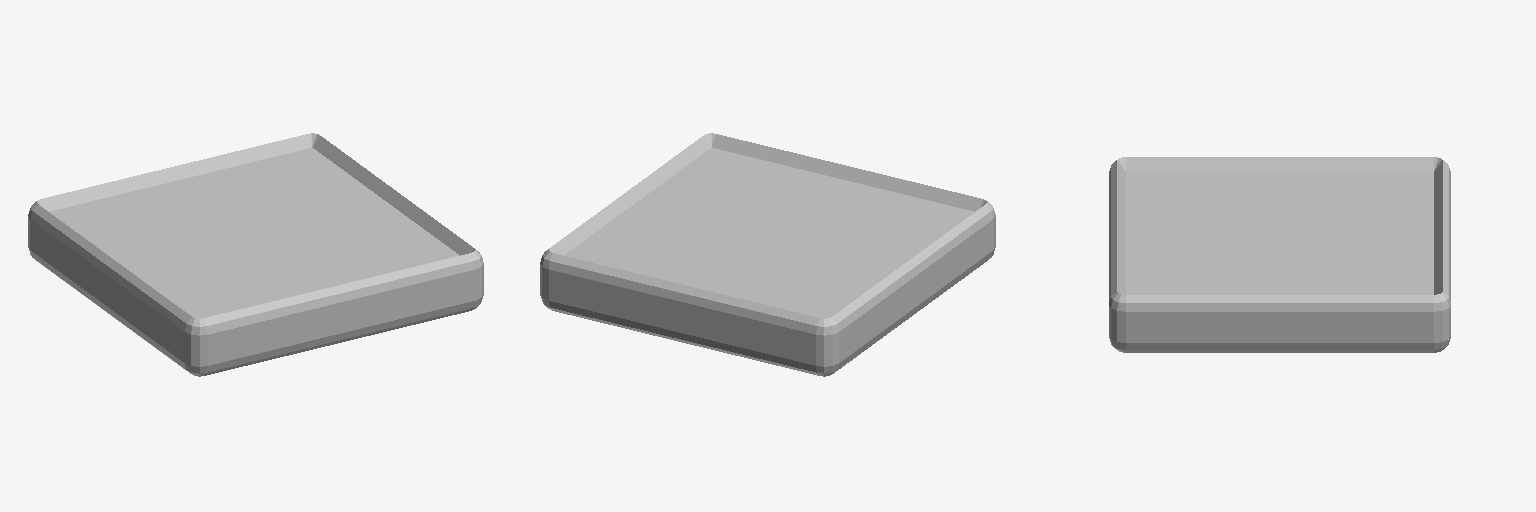
File: displayBox.obj
The picture shows the model from 3 angles: view 1: azimuth 30°, elevation 25°; view 2: azimuth 150°, elevation 25°; view 3: azimuth 270°, elevation 25°; orthographic projection.
Parts seen in each view (by area): view 1: display, surround; view 2: display, surround; view 3: display, surround.
Part boxes in pixels (left/top/right/bottom): display: left=50, top=148, right=459, bottom=318; surround: left=28, top=133, right=483, bottom=376; display: left=564, top=148, right=973, bottom=318; surround: left=540, top=133, right=995, bottom=376; display: left=1126, top=171, right=1433, bottom=294; surround: left=1109, top=157, right=1450, bottom=352.
Bounding box in the file's own units: 5 × 0.9666 × 5.